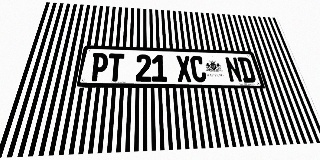1: (151, 55, 167, 82)
2: (136, 54, 151, 82)
C: (190, 56, 207, 82)
D: (237, 57, 257, 83)
N: (224, 57, 243, 83)
P: (89, 53, 109, 81)
T: (107, 53, 124, 81)
X: (175, 55, 192, 82)
